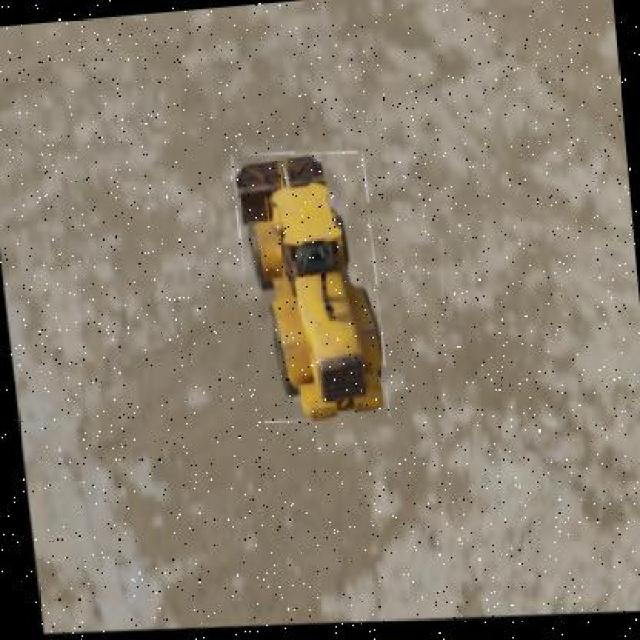buldozerpayloadergrader: (234, 142, 389, 428)
